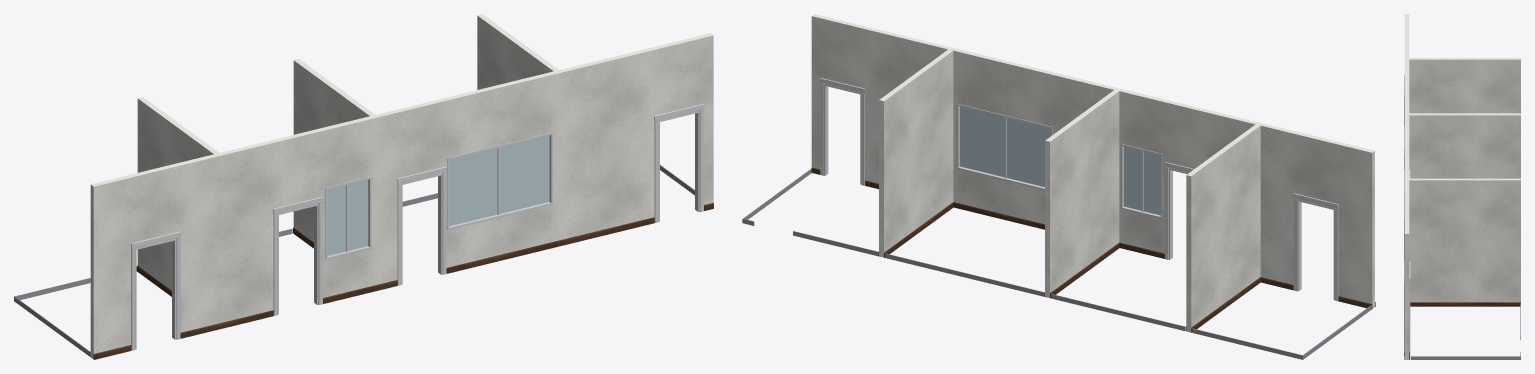
The model's file is sr_plan.glb.
The picture shows the model from 3 angles, left to right: view 1: azimuth 30°, elevation 25°; view 2: azimuth 150°, elevation 25°; view 3: azimuth 270°, elevation 25°; orthographic projection. The views are drawn at different scales.
Visible parts, largest first — view 1: sr_plan_plaster, sr_plan_glass, sr_plan_frame, sr_plan_dkwood, sr_plan_gold, sr_plan_trim; view 2: sr_plan_plaster, sr_plan_glass, sr_plan_frame, sr_plan_trim, sr_plan_dkwood, sr_plan_gold; view 3: sr_plan_plaster, sr_plan_dkwood, sr_plan_frame, sr_plan_trim, sr_plan_gold.
Part boxes in pixels (box(x1,y1,x2,y2)): sr_plan_plaster: box(90, 14, 713, 359); sr_plan_glass: box(327, 135, 549, 255); sr_plan_frame: box(131, 103, 704, 350); sr_plan_dkwood: box(90, 203, 713, 359); sr_plan_gold: box(325, 132, 552, 259); sr_plan_trim: box(14, 165, 694, 356); sr_plan_plaster: box(811, 14, 1374, 332); sr_plan_glass: box(960, 106, 1160, 215); sr_plan_frame: box(820, 78, 1338, 301); sr_plan_trim: box(742, 168, 1371, 359); sr_plan_dkwood: box(811, 167, 1375, 332); sr_plan_gold: box(956, 103, 1162, 218); sr_plan_plaster: box(1404, 14, 1520, 359); sr_plan_dkwood: box(1404, 302, 1520, 359); sr_plan_frame: box(1404, 75, 1410, 355); sr_plan_trim: box(1410, 303, 1520, 359); sr_plan_gold: box(1404, 138, 1404, 260).
Size of the model in its own units: 13.5 by 3.6 by 3.03.
6 materials, 2 textured.
